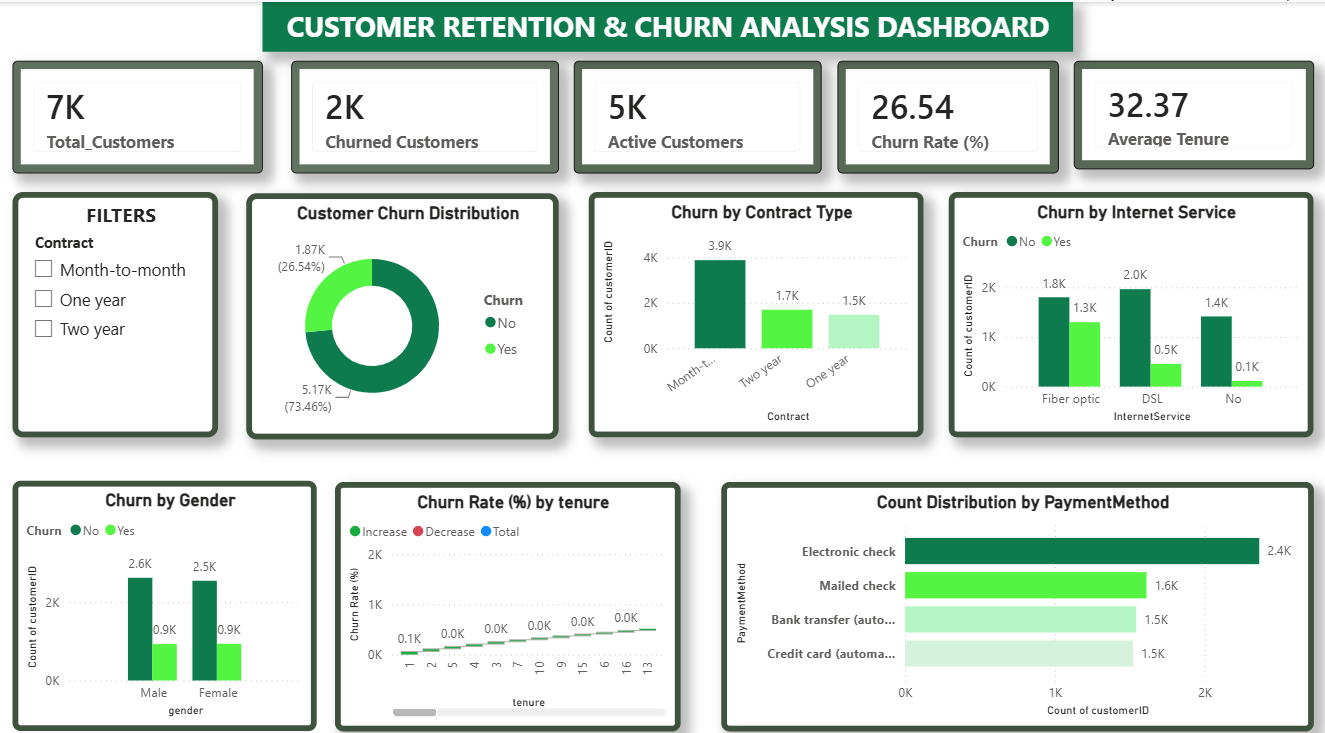

The dashboard page shown, as its layout file describes it:
{"tool":"powerbi","page":{"name":"Page 1","canvas":[1280,720],"ordinal":0},"visuals":[{"type":"cardVisual","fields":{"Data":["WA_Fn-UseC_-Telco-Customer-Churn (1).Total_Customers"]},"box":[12.5,56.2,241.2,108.8],"z":0},{"type":"cardVisual","fields":{"Data":["WA_Fn-UseC_-Telco-Customer-Churn (1).Churned Customers"]},"box":[281.5,56.8,258,108.6],"z":1000},{"type":"cardVisual","fields":{"Data":["WA_Fn-UseC_-Telco-Customer-Churn (1).Active Customers"]},"box":[554.3,56.8,239.5,108.6],"z":2000},{"type":"cardVisual","fields":{"Data":["WA_Fn-UseC_-Telco-Customer-Churn (1).Churn Rate (%)"]},"box":[808.6,56.8,213.6,108.6],"z":3000},{"type":"cardVisual","fields":{"Data":["WA_Fn-UseC_-Telco-Customer-Churn (1).Average Tenure"]},"box":[1035.8,56.8,232.1,104.9],"z":4000},{"type":"textbox","box":[253.1,0,782.7,48.1],"z":5000},{"type":"slicer","title":"FILTERS","fields":{"Values":["WA_Fn-UseC_-Telco-Customer-Churn (1).Contract"]},"box":[12.3,184,198.8,237],"z":6000},{"type":"donutChart","title":"Customer Churn Distribution","fields":{"Y":["CountNonNull(WA_Fn-UseC_-Telco-Customer-Churn (1).customerID)"],"Category":["WA_Fn-UseC_-Telco-Customer-Churn (1).Churn"]},"box":[237.7,184.6,301.6,237.7],"z":7000},{"type":"clusteredColumnChart","title":"Churn by Contract Type","fields":{"Category":["WA_Fn-UseC_-Telco-Customer-Churn (1).Contract"],"Y":["CountNonNull(WA_Fn-UseC_-Telco-Customer-Churn (1).customerID)"]},"box":[567.9,184,323.5,237],"z":8000},{"type":"clusteredColumnChart","title":"Churn by Internet Service","fields":{"Category":["WA_Fn-UseC_-Telco-Customer-Churn (1).InternetService"],"Y":["CountNonNull(WA_Fn-UseC_-Telco-Customer-Churn (1).customerID)"],"Series":["WA_Fn-UseC_-Telco-Customer-Churn (1).Churn"]},"box":[916,184,351.9,237],"z":9000},{"type":"clusteredColumnChart","title":"Churn by Gender","fields":{"Category":["WA_Fn-UseC_-Telco-Customer-Churn (1).gender"],"Y":["CountNonNull(WA_Fn-UseC_-Telco-Customer-Churn (1).customerID)"],"Series":["WA_Fn-UseC_-Telco-Customer-Churn (1).Churn"]},"box":[12.3,461.7,293.8,242],"z":10000},{"type":"waterfallChart","fields":{"Category":["WA_Fn-UseC_-Telco-Customer-Churn (1).tenure"],"Y":["WA_Fn-UseC_-Telco-Customer-Churn (1).Churn Rate (%)"]},"box":[323.5,463,333.3,240.7],"z":11000},{"type":"barChart","title":"Count Distribution by PaymentMethod","fields":{"Y":["CountNonNull(WA_Fn-UseC_-Telco-Customer-Churn (1).customerID)"],"Category":["WA_Fn-UseC_-Telco-Customer-Churn (1).PaymentMethod"]},"box":[696.3,463,571.6,240.7],"z":12000}]}

Visuals, with their boxes in screenshot pixels (x1, y1, x2, y2), scaled from the page's 1280x720 canvas onto the 1325x733 screenshot:
cardVisual - WA_Fn-UseC_-Telco-Customer-Churn (1).Total_Customers: left=13, top=57, right=263, bottom=168
cardVisual - WA_Fn-UseC_-Telco-Customer-Churn (1).Churned Customers: left=291, top=58, right=558, bottom=168
cardVisual - WA_Fn-UseC_-Telco-Customer-Churn (1).Active Customers: left=574, top=58, right=822, bottom=168
cardVisual - WA_Fn-UseC_-Telco-Customer-Churn (1).Churn Rate (%): left=837, top=58, right=1058, bottom=168
cardVisual - WA_Fn-UseC_-Telco-Customer-Churn (1).Average Tenure: left=1072, top=58, right=1312, bottom=165
textbox: left=262, top=0, right=1072, bottom=49
"FILTERS" slicer: left=13, top=187, right=219, bottom=429
"Customer Churn Distribution" donutChart: left=246, top=188, right=558, bottom=430
"Churn by Contract Type" clusteredColumnChart: left=588, top=187, right=923, bottom=429
"Churn by Internet Service" clusteredColumnChart: left=948, top=187, right=1312, bottom=429
"Churn by Gender" clusteredColumnChart: left=13, top=470, right=317, bottom=716
waterfallChart - WA_Fn-UseC_-Telco-Customer-Churn (1).tenure x WA_Fn-UseC_-Telco-Customer-Churn (1).Churn Rate (%): left=335, top=471, right=680, bottom=716
"Count Distribution by PaymentMethod" barChart: left=721, top=471, right=1312, bottom=716
